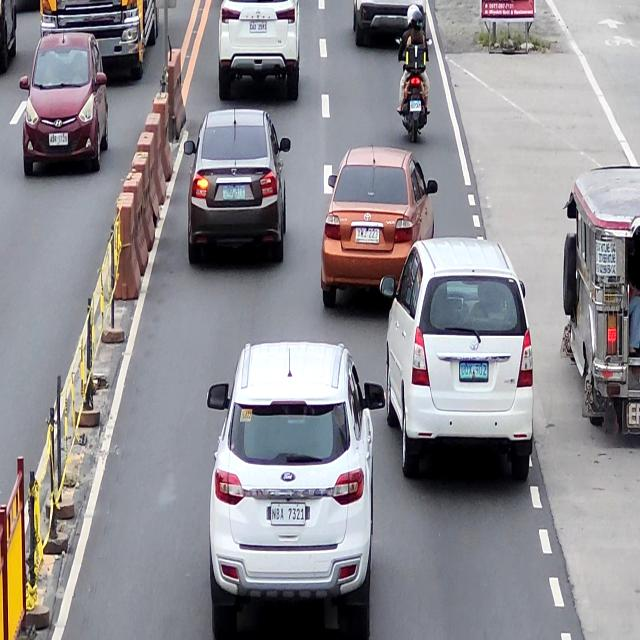Car: (207, 339, 383, 640), (379, 235, 534, 486), (319, 148, 439, 313), (185, 109, 291, 268), (219, 0, 300, 104), (352, 0, 427, 46)
Jeep: (561, 162, 640, 444)
License-Plate: (270, 503, 306, 524), (459, 362, 488, 382), (355, 228, 379, 244), (222, 186, 245, 200), (249, 20, 267, 32), (409, 99, 422, 112)
Motorcycle: (396, 35, 432, 143)
